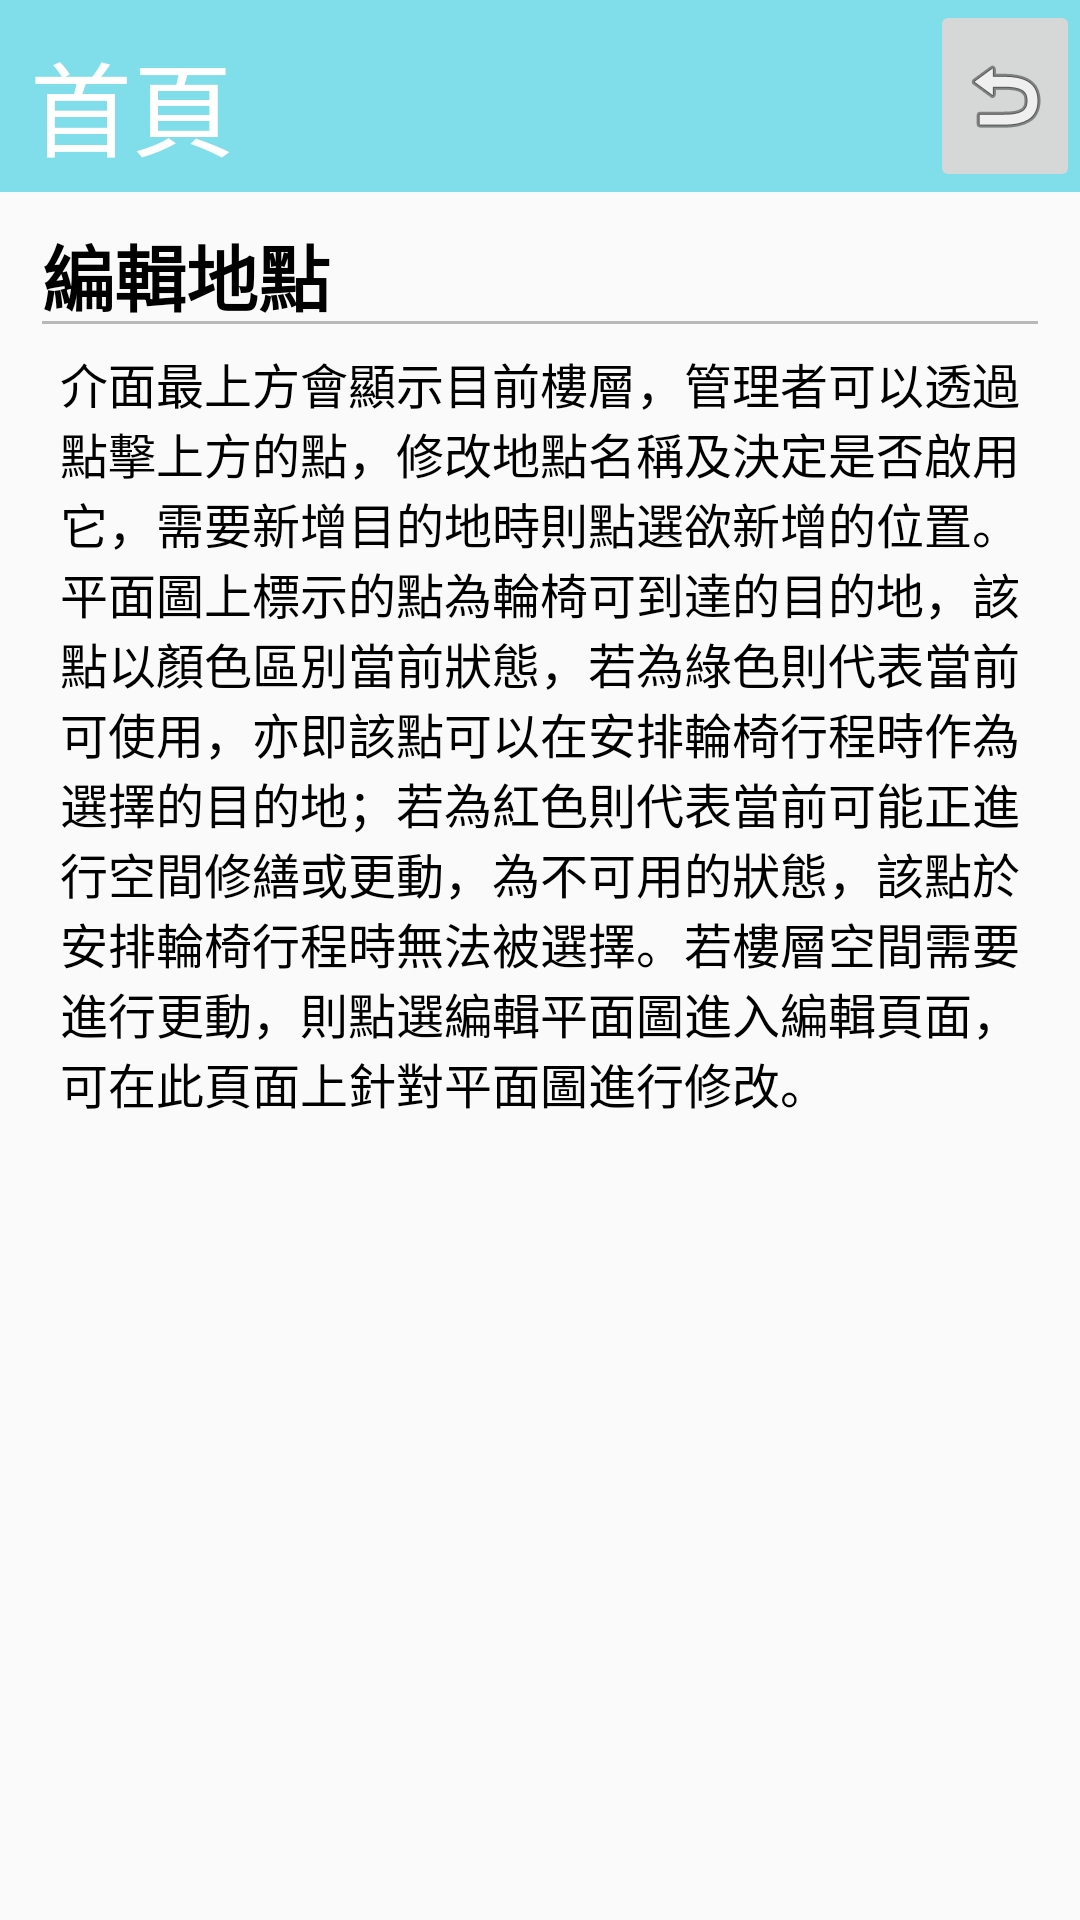

Icon click points for this 1080x1920 phone screenshot, format [x,y]:
revert: [1005,96]
